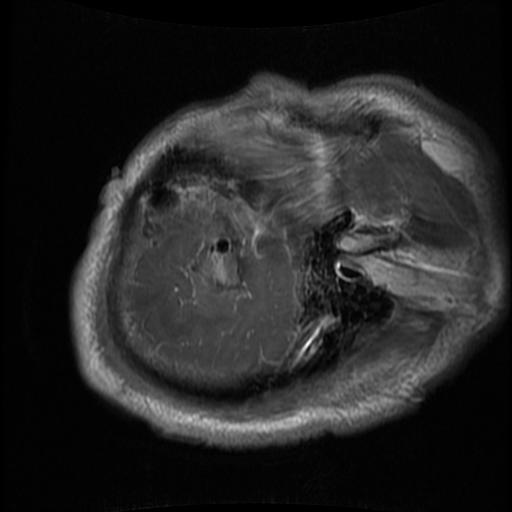glioma: (203, 237, 241, 290)
